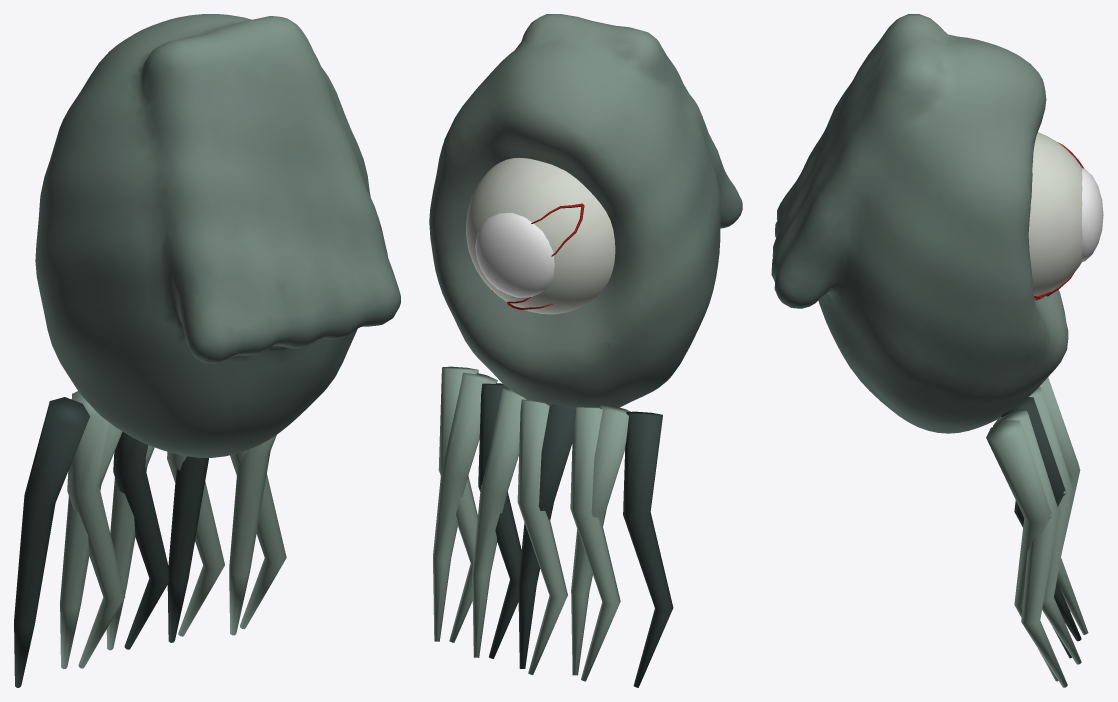
File: moon_lord_head.glb
3 renders of one model, left to right at view 1: azimuth 30°, elevation 25°; view 2: azimuth 150°, elevation 25°; view 3: azimuth 270°, elevation 25°, orthographic. The views are drawn at different scales.
Parts seen in each view (by area): view 1: moon_lord_head; view 2: moon_lord_head; view 3: moon_lord_head.
Boxes of the visible parts, <box> form: moon_lord_head: <box>14,14,400,687</box>; moon_lord_head: <box>429,14,742,687</box>; moon_lord_head: <box>771,14,1103,687</box>.
Size of the model in its own units: 3.12 by 6.81 by 3.38.
